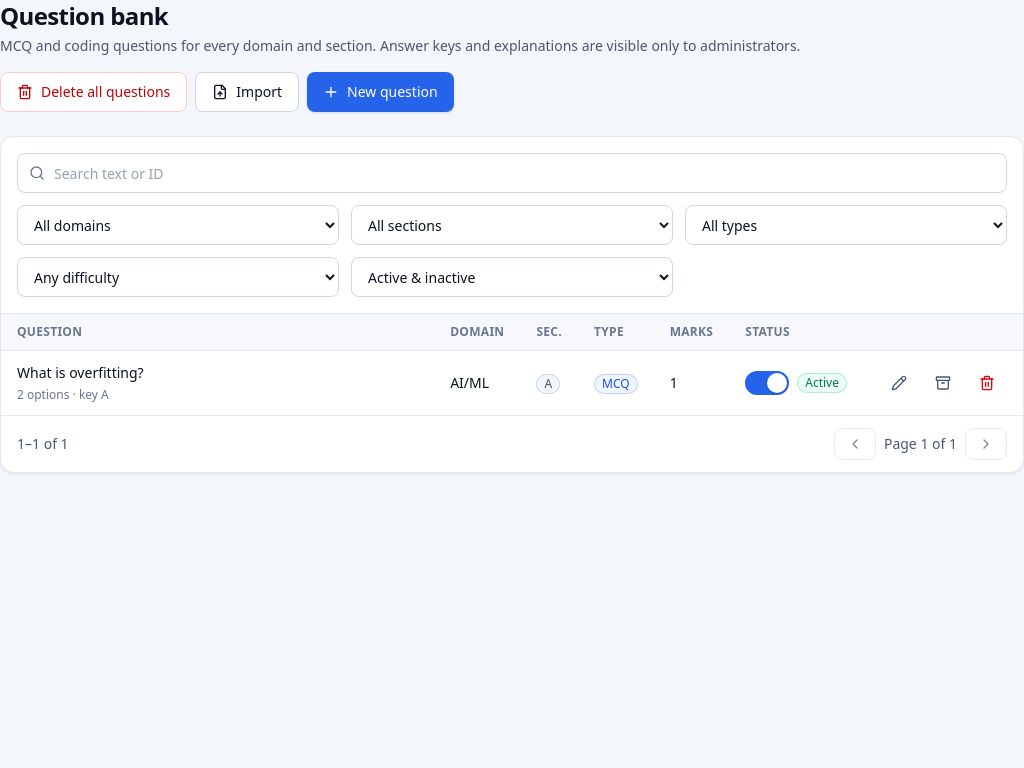
Test: Question bank: readiness warning before a harmful change › editing the domain: the warning appears before saving and Confirm resends with acknowledgement
Click the button named "Edit question" at (899, 383), box [879,367,919,399]
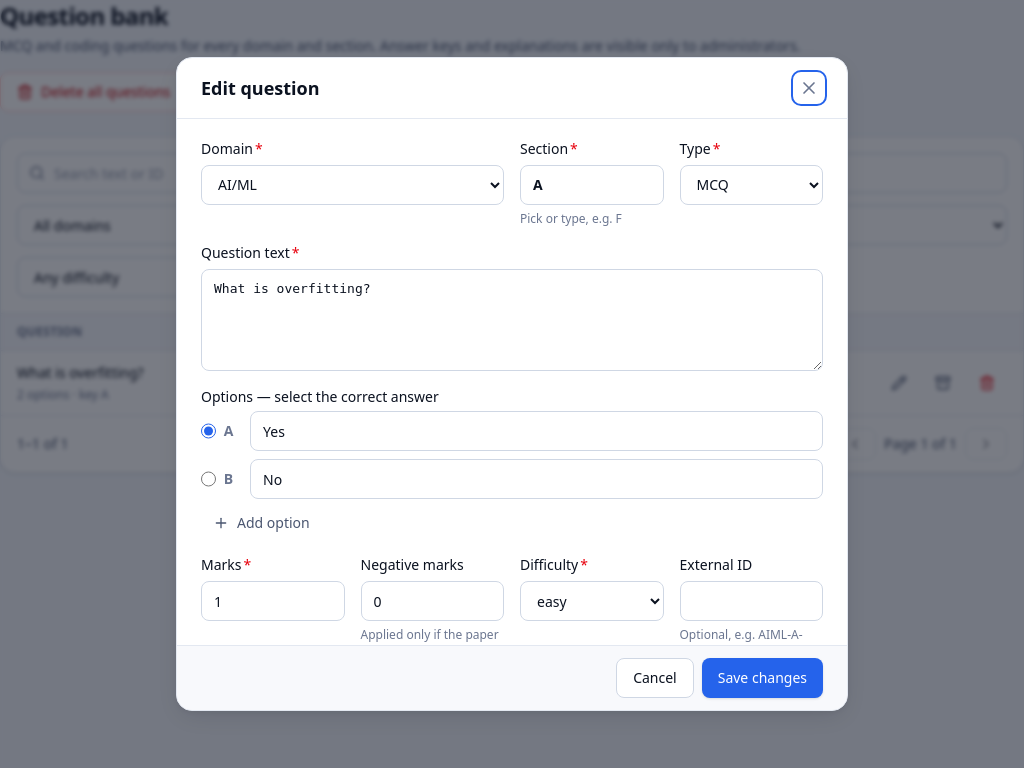
Select "Data Analytics" in the dropdown labelled "Domain*" at (352, 185), box [201,165,504,205]
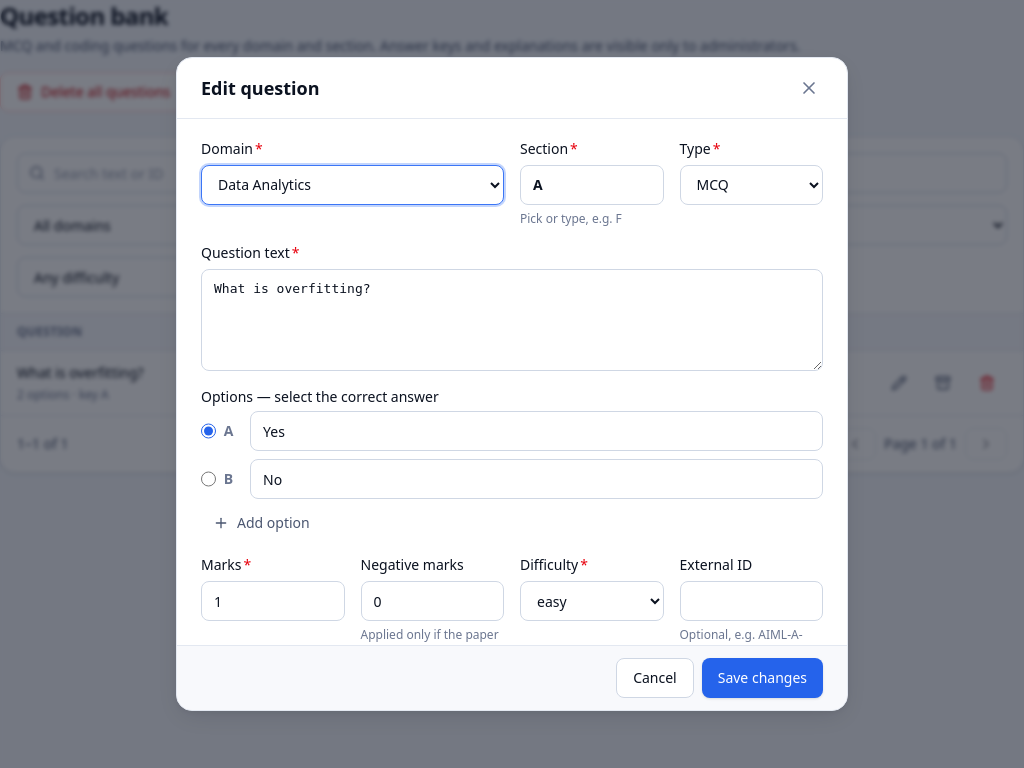
Click the button "Save changes" at (762, 678), box [702,658,823,698]
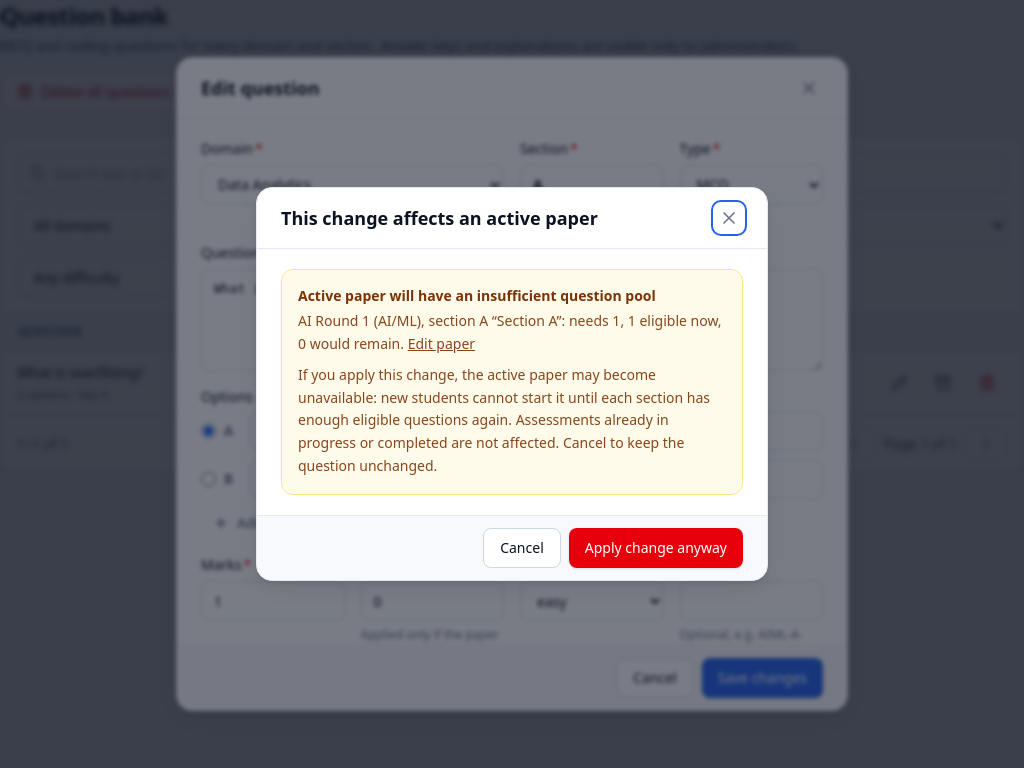
Click the button "Apply change anyway" at (656, 548), box [569,528,743,568]
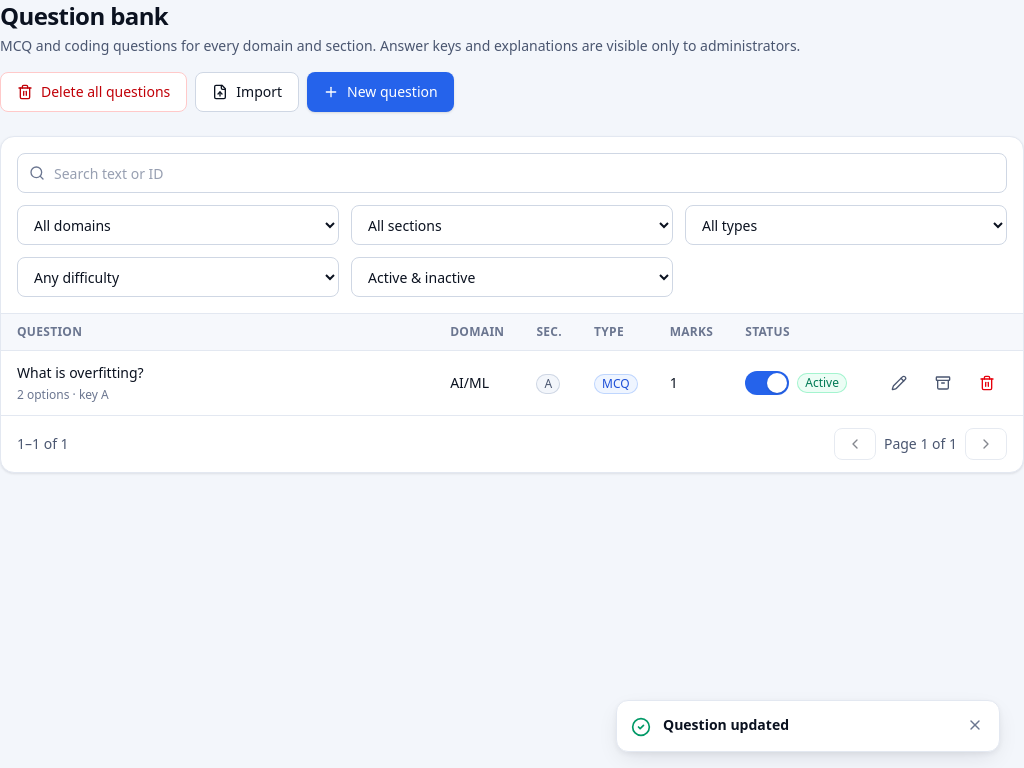
expect the text "Question updated" is shown: met, box [663,715,789,734]
